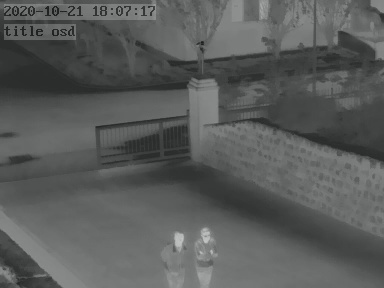person: (193, 221, 221, 288), (162, 226, 187, 288)
